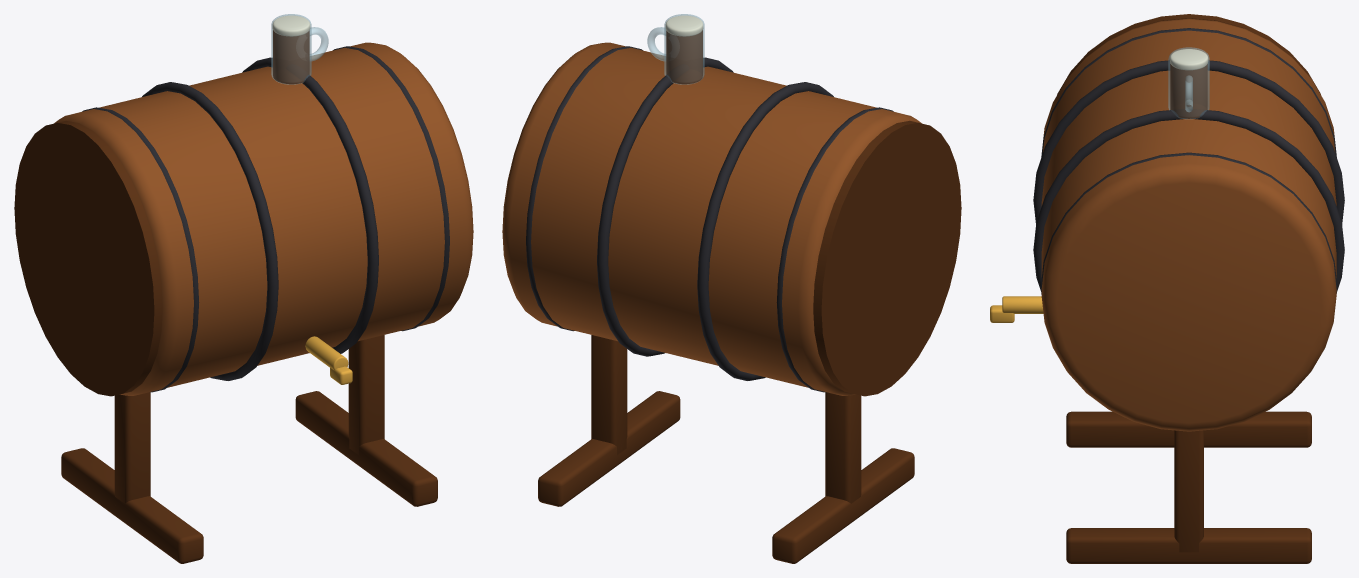
The model's file is kvass_barrel.glb.
3 renders of one model, left to right at view 1: azimuth 30°, elevation 25°; view 2: azimuth 150°, elevation 25°; view 3: azimuth 270°, elevation 25°, orthographic.
Visible parts, largest first — view 1: kvass_barrel; view 2: kvass_barrel; view 3: kvass_barrel.
Part boxes in pixels (box(x1,y1,x2,y2)): kvass_barrel: box(14, 14, 473, 563); kvass_barrel: box(502, 14, 961, 563); kvass_barrel: box(990, 14, 1344, 563).
Size of the model in its own units: 0.77 by 1.05 by 0.722.
